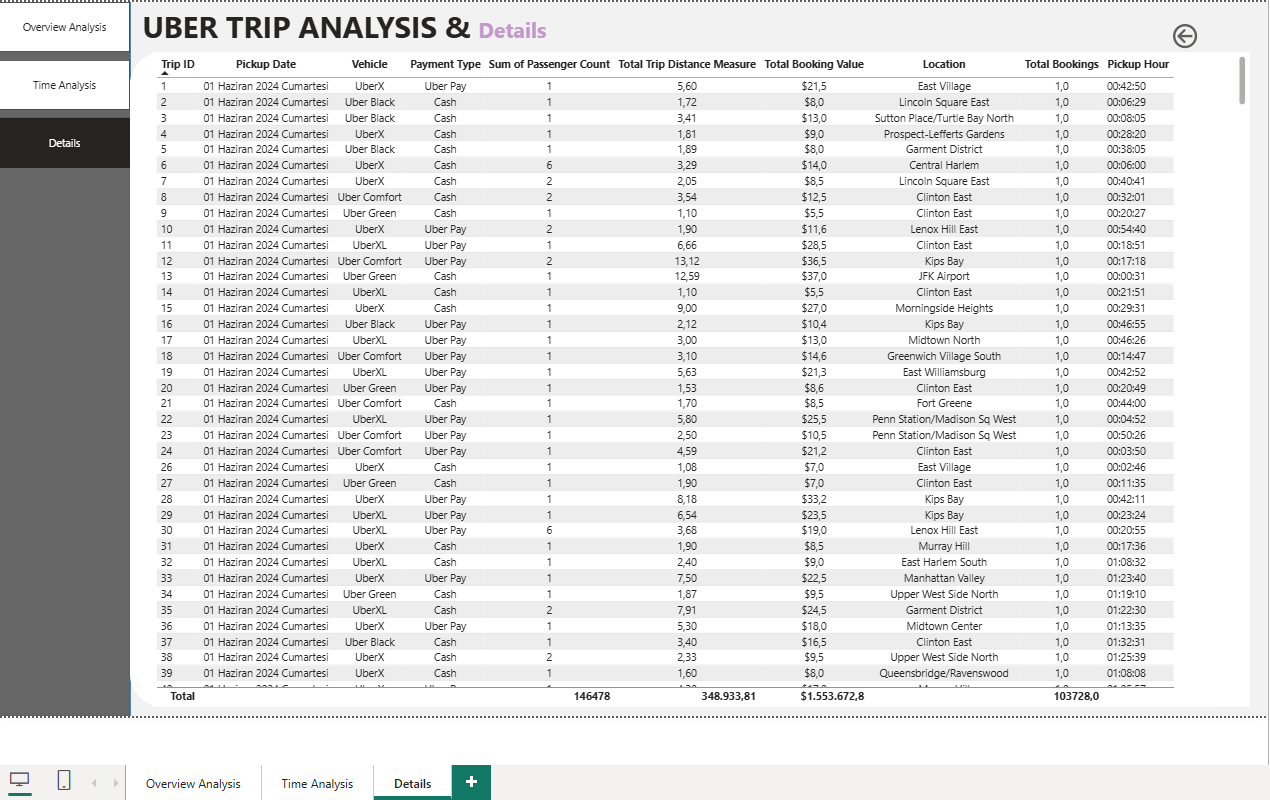

Layout of this report page (visuals, bound fields, positions):
{"tool":"powerbi","page":{"name":"Details","canvas":[1600,900],"ordinal":2},"visuals":[{"type":"shape","box":[0,0,167,900.1],"z":0},{"type":"textbox","box":[166.4,0,674.8,63],"z":1000},{"type":"shape","box":[166.4,63,1409.6,824.7],"z":2000},{"type":"tableEx","fields":{"Values":["Trip Details.Trip ID","Trip Details.Pickup Date","Trip Details.Vehicle","Trip Details.Payment_type","Sum(Trip Details.passenger_count)","Trip Details.Total Trip Distance Measure","Trip Details.Total Booking Value","Location Table.Location","Trip Details.Total Bookings","Trip Details.Pickup Hour HH MM SS"]},"box":[193.4,63,1382.6,824.7],"z":3000},{"type":"actionButton","box":[1475.5,22.5,100.5,40.5],"z":4000},{"type":"pageNavigator","box":[1.3,0,165.8,209.2],"z":4001}]}

Visuals, with their boxes on the page's 1600x900 design canvas (x1, y1, x2, y2). These are canvas units, not pixel positions in the 1270x800 screenshot, which may show the page scaled, cropped or inside an application window:
shape: (x1=0, y1=0, x2=167, y2=900)
textbox: (x1=166, y1=0, x2=841, y2=63)
shape: (x1=166, y1=63, x2=1576, y2=888)
tableEx - Trip Details.Trip ID x Trip Details.Pickup Date: (x1=193, y1=63, x2=1576, y2=888)
actionButton: (x1=1476, y1=22, x2=1576, y2=63)
pageNavigator: (x1=1, y1=0, x2=167, y2=209)
